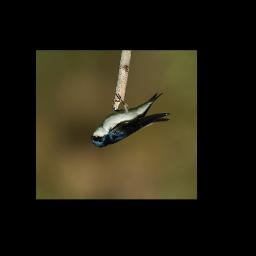Swallow: (89, 90, 172, 148)
